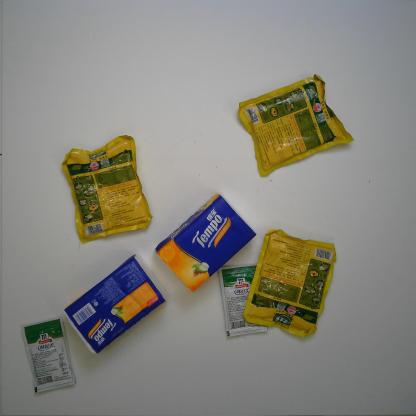Seasoner: (235, 71, 356, 180), (241, 226, 336, 341), (60, 133, 154, 247), (18, 315, 76, 398), (216, 260, 271, 340)
Tissue: (62, 252, 167, 358), (153, 190, 258, 294)
